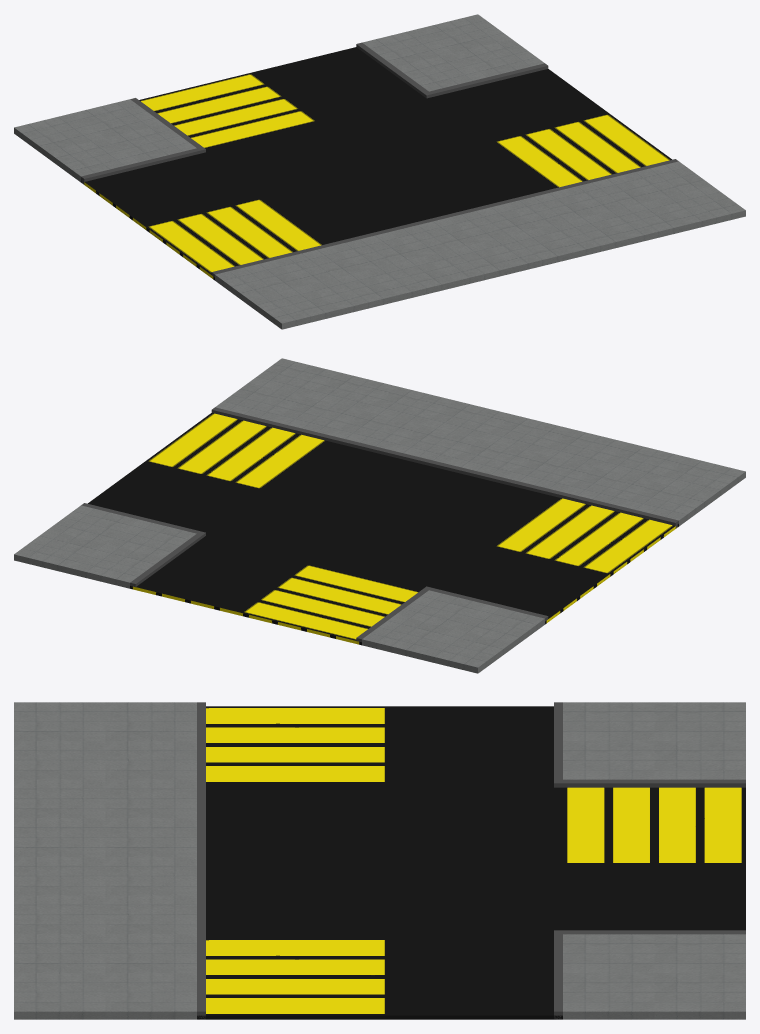
File: RoadTSplit_2x2.fbx
3 renders of one model, top to bottom at view 1: azimuth 30°, elevation 25°; view 2: azimuth 150°, elevation 25°; view 3: azimuth 270°, elevation 25°, orthographic. The views are drawn at different scales.
Parts seen in each view (by area): view 1: RoadTSplit 2x2.001; view 2: RoadTSplit 2x2.001; view 3: RoadTSplit 2x2.001.
Boxes of the visible parts, bbox=[...] form: RoadTSplit 2x2.001: bbox=[14, 14, 745, 329]; RoadTSplit 2x2.001: bbox=[14, 358, 745, 673]; RoadTSplit 2x2.001: bbox=[14, 702, 745, 1019].
Size of the model in its own units: 16 by 0.2 by 16.
